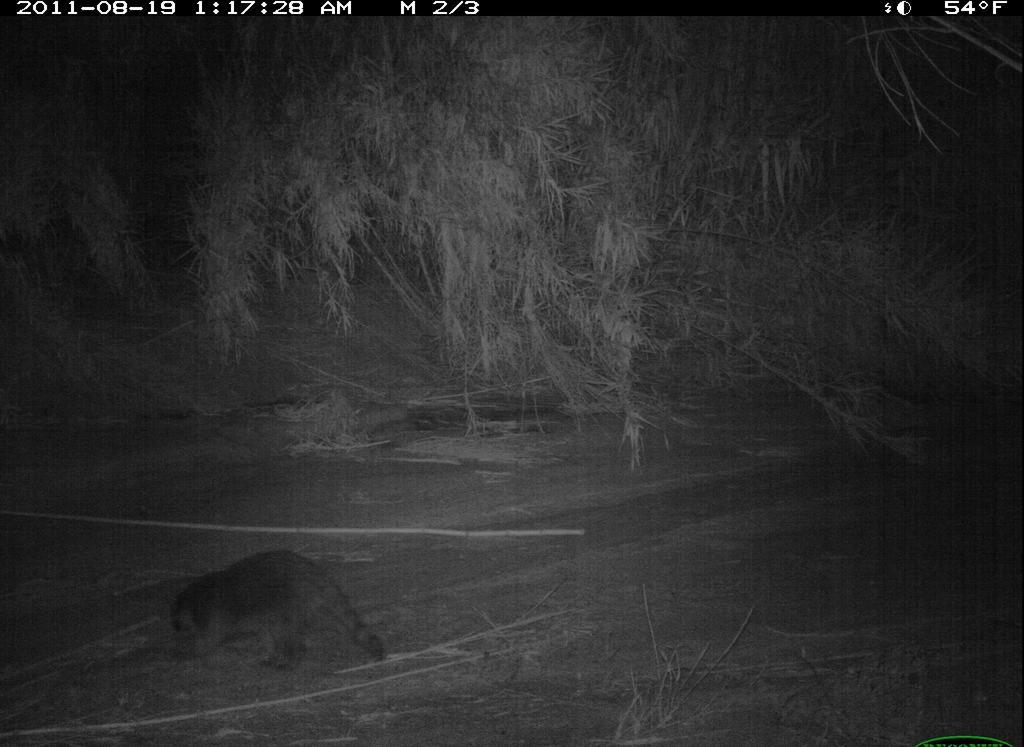raccoon: (167, 545, 392, 681)
